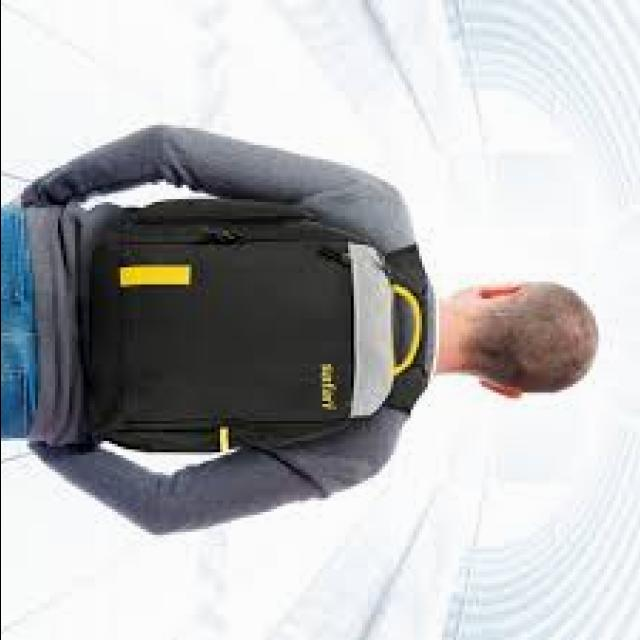backpack: (81, 197, 437, 456)
